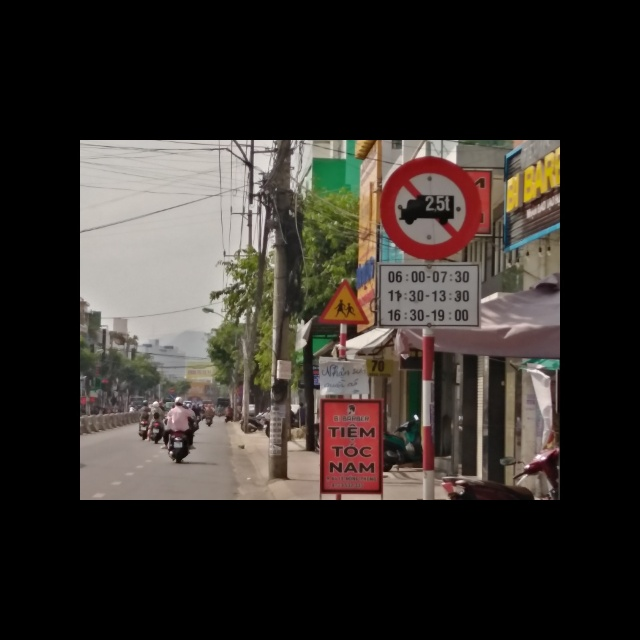Cấm xe tải: (379, 156, 486, 259)
Trẻ em ngang qua: (317, 281, 369, 327)
